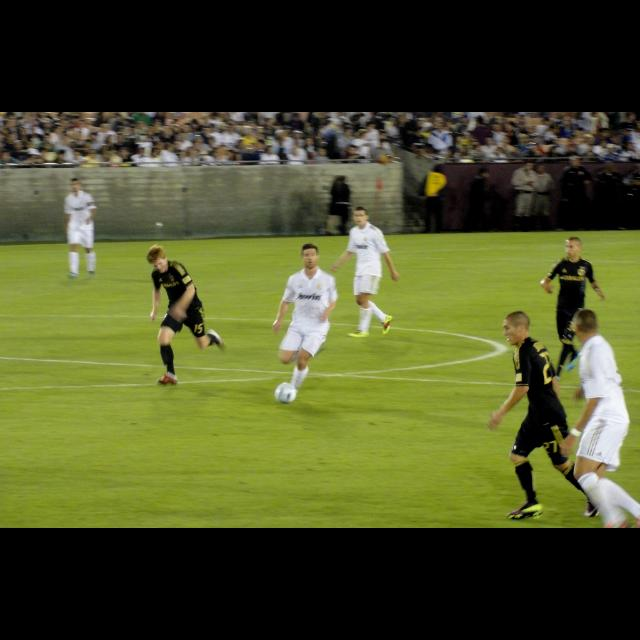Football: (274, 382, 296, 402)
